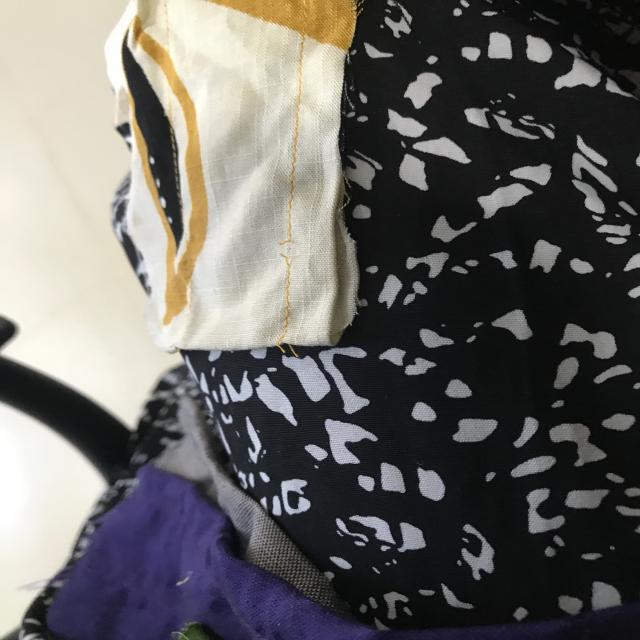broken: (270, 230, 299, 270)
